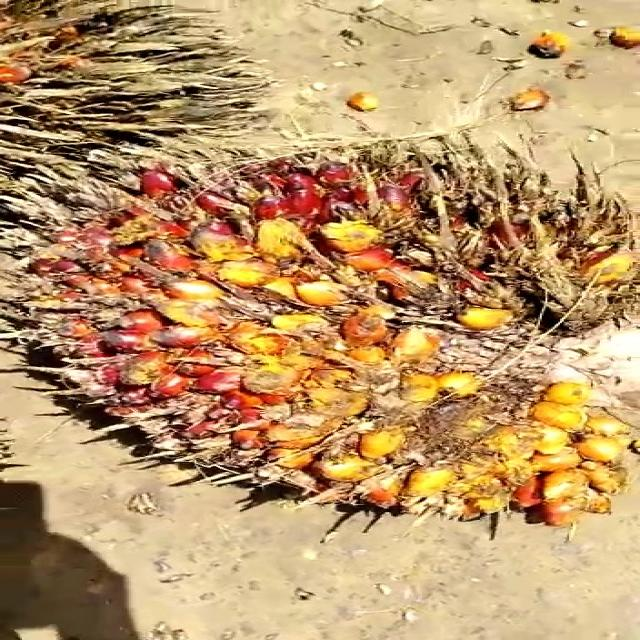palm oil: (0, 146, 640, 530)
